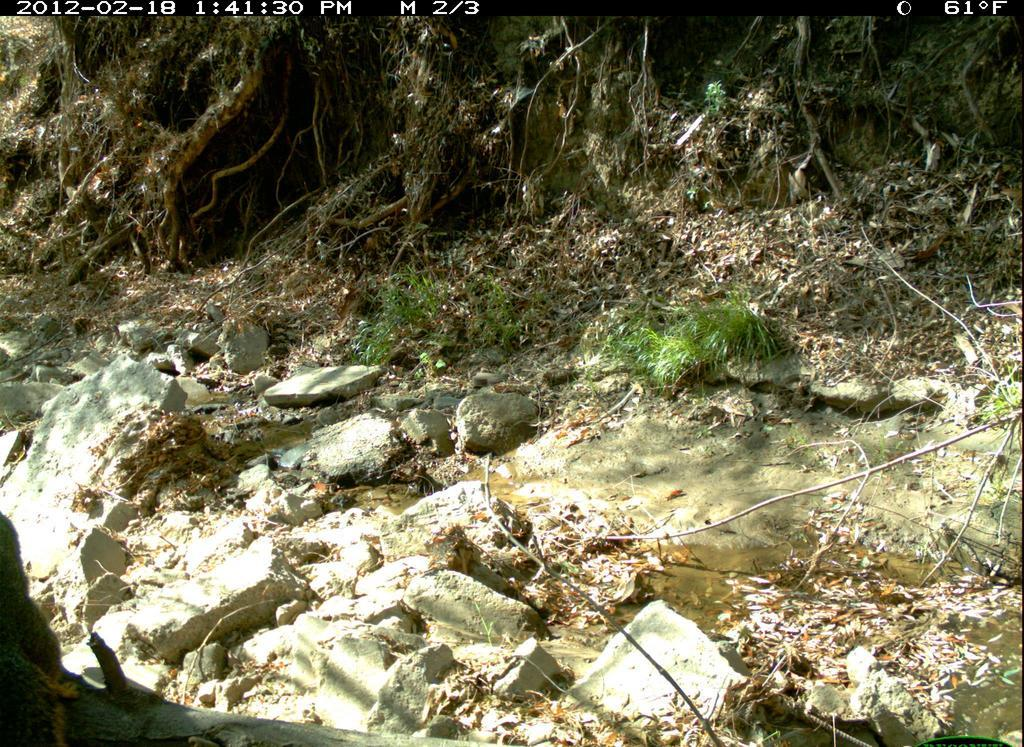squirrel: (1, 500, 98, 747)
